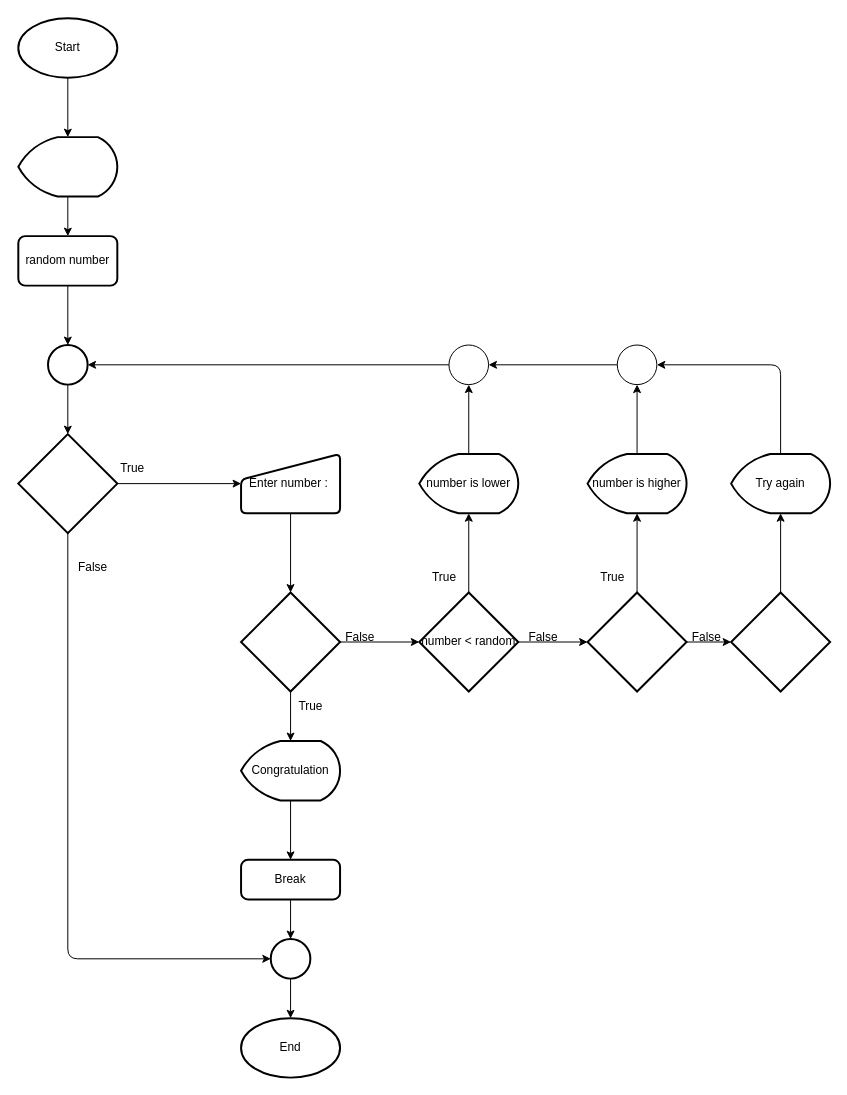
This 847x1095 diagram has some shape labels left out. The shapes that lost their labels are listed below. From the top down, each one's centre as x and y in pixels, then its label:
At (x=67, y=166): "number guessing game".
At (x=67, y=483): "while(TRUE)".
At (x=290, y=641): "inumber = random".
At (x=636, y=641): "number > random".
At (x=780, y=641): "Other".
